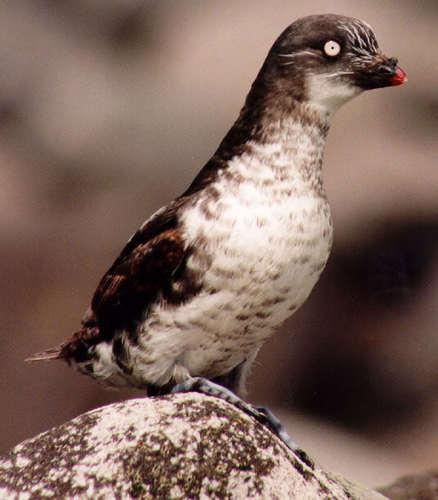006.Least_Auklet: (20, 13, 408, 472)
